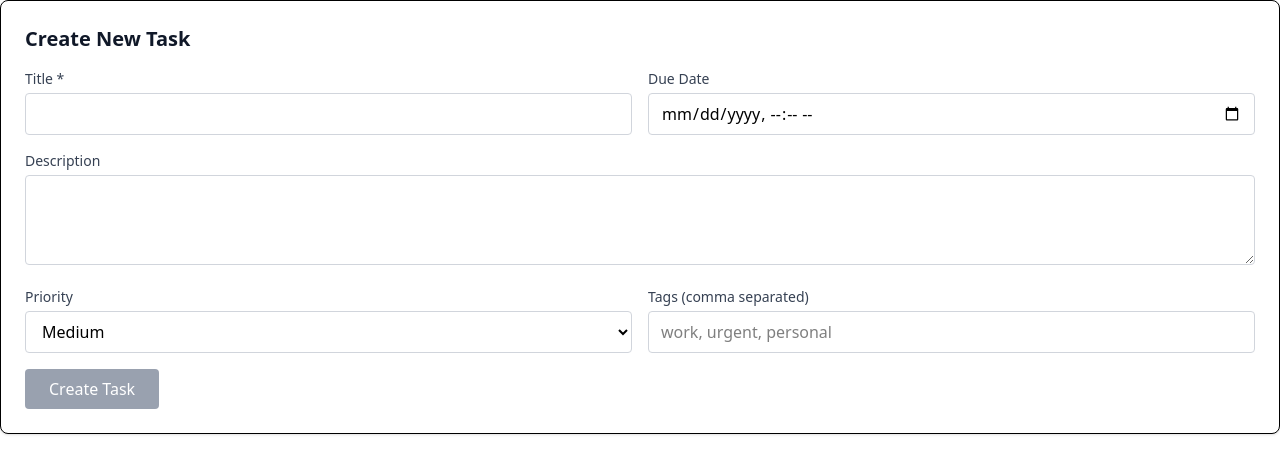
Test: TaskCreateForm › shows clear button when form has data
Expected: the text "Clear" is not shown
In the field below "Title *": (328, 114) x1=25 y1=93 x2=632 y2=135, type "Test"
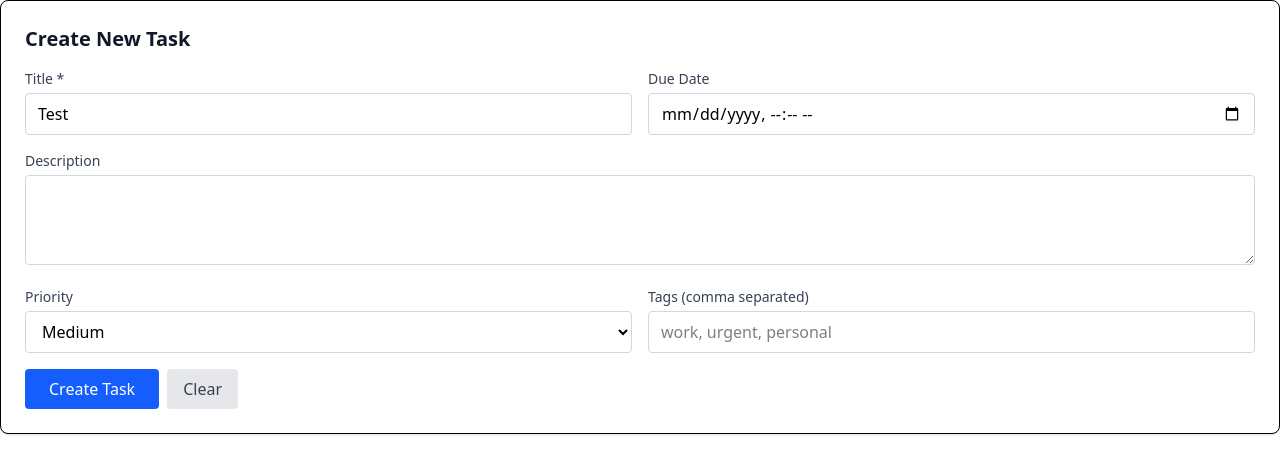
Result: the text "Clear" is shown at x1=167 y1=369 x2=238 y2=409
